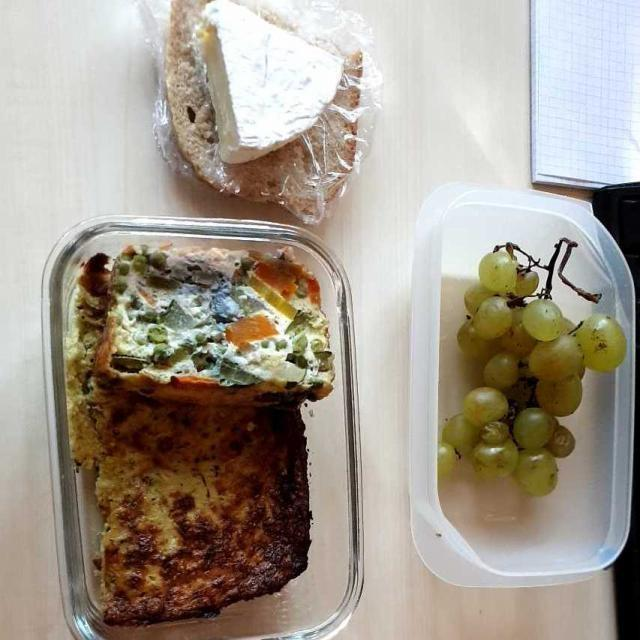bread: (169, 10, 375, 213)
grapes: (457, 250, 620, 491)
vegetables-baked: (78, 395, 322, 624)
